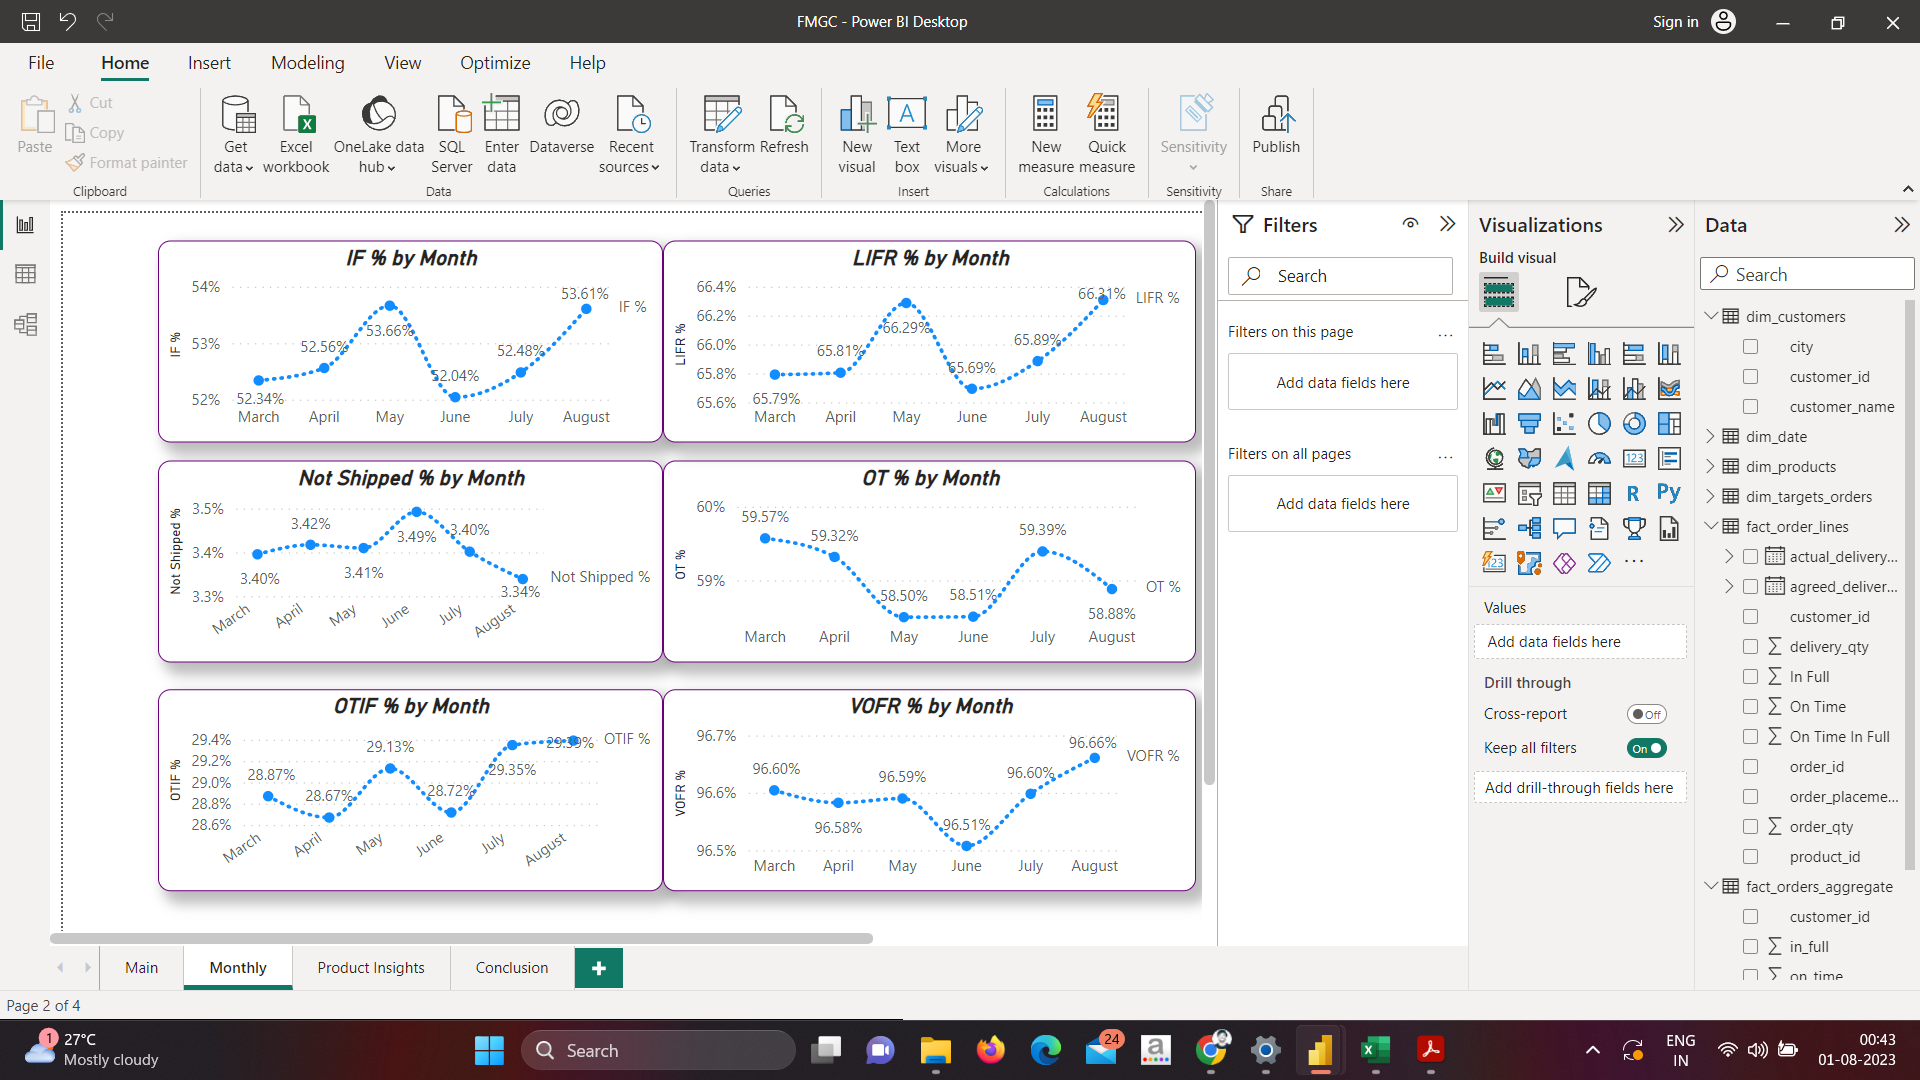

What the dashboard file says about the page in this screenshot:
{"tool":"powerbi","page":{"name":"Monthly","canvas":[1280,720],"ordinal":1},"visuals":[{"type":"lineChart","fields":{"Category":["dim_date.date.Variation.Date Hierarchy.Month"],"Y":["key measure.IF %"]},"box":[76,22,404,162],"z":0},{"type":"lineChart","fields":{"Category":["dim_date.date.Variation.Date Hierarchy.Month"],"Y":["key measure.Not Shipped %"]},"box":[76,198,404,162],"z":1000},{"type":"lineChart","fields":{"Category":["dim_date.date.Variation.Date Hierarchy.Month"],"Y":["key measure.OTIF %"]},"box":[76,381,404,162],"z":2000},{"type":"lineChart","fields":{"Category":["dim_date.date.Variation.Date Hierarchy.Month"],"Y":["key measure.VOFR %"]},"box":[480,381,427,162],"z":3000},{"type":"lineChart","fields":{"Category":["dim_date.date.Variation.Date Hierarchy.Month"],"Y":["key measure.OT %"]},"box":[480,198,427,162],"z":4000},{"type":"lineChart","fields":{"Category":["dim_date.date.Variation.Date Hierarchy.Month"],"Y":["key measure.LIFR %"]},"box":[480,22,427,162],"z":5000}]}

Visuals, with their boxes on the page's 1280x720 design canvas (x1, y1, x2, y2). These are canvas units, not pixel positions in the 1920x1080 screenshot, which may show the page scaled, cropped or inside an application window:
lineChart - dim_date.date.Variation.Date Hierarchy.Month x key measure.IF %: pyautogui.locateOnScreen(76, 22, 480, 184)
lineChart - dim_date.date.Variation.Date Hierarchy.Month x key measure.Not Shipped %: pyautogui.locateOnScreen(76, 198, 480, 360)
lineChart - dim_date.date.Variation.Date Hierarchy.Month x key measure.OTIF %: pyautogui.locateOnScreen(76, 381, 480, 543)
lineChart - dim_date.date.Variation.Date Hierarchy.Month x key measure.VOFR %: pyautogui.locateOnScreen(480, 381, 907, 543)
lineChart - dim_date.date.Variation.Date Hierarchy.Month x key measure.OT %: pyautogui.locateOnScreen(480, 198, 907, 360)
lineChart - dim_date.date.Variation.Date Hierarchy.Month x key measure.LIFR %: pyautogui.locateOnScreen(480, 22, 907, 184)
